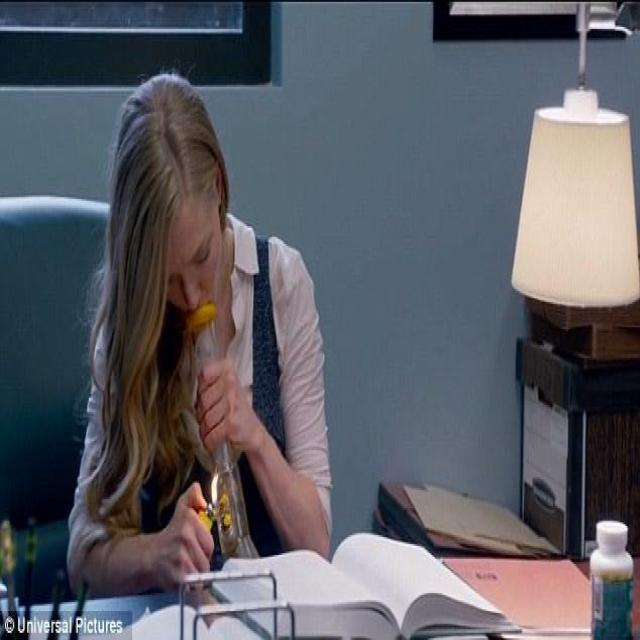Вейп: (193, 311, 247, 548)
Тело: (68, 75, 330, 579)
